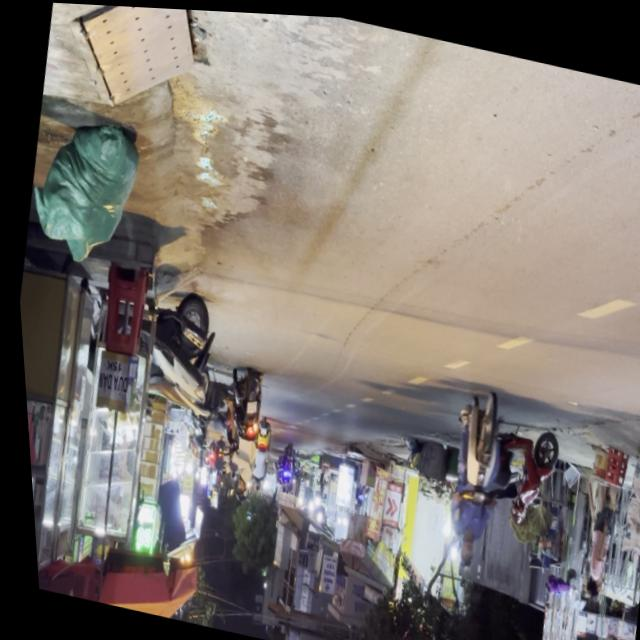helmet: (449, 530, 470, 564)
licenseplate: (425, 378, 512, 570)
